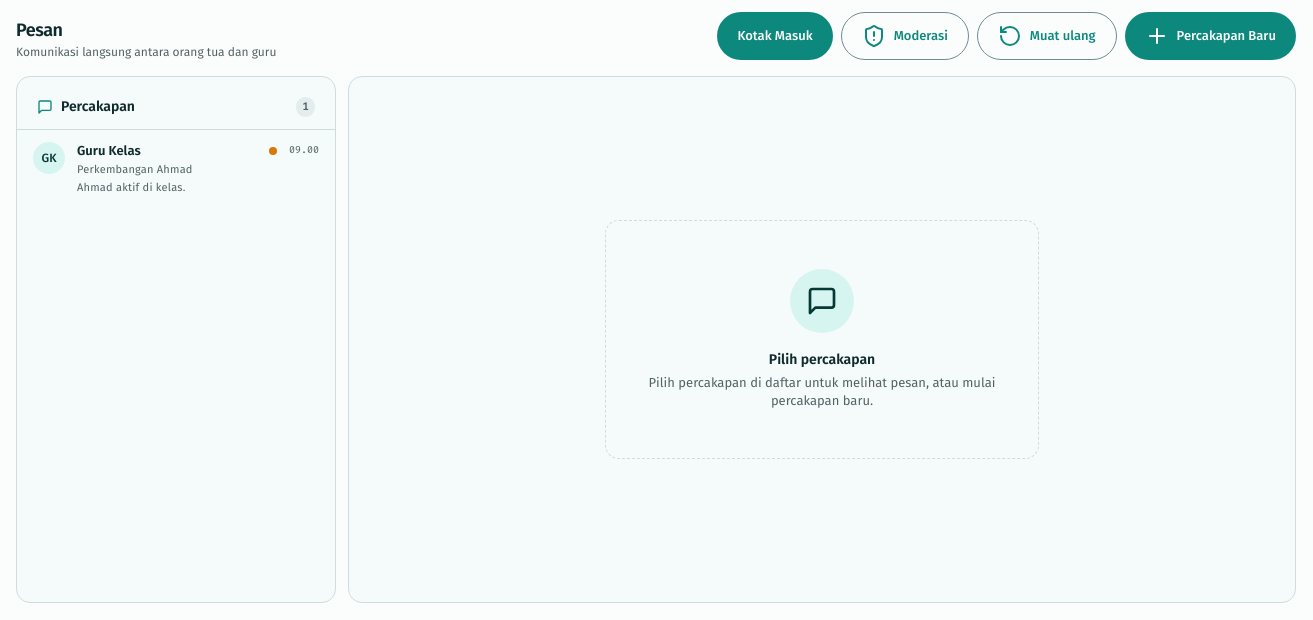
Test: MessagesPage › test_moderator_view_loads_via_audited_endpoint fetches /moderator-view for principals
The width and height of the screenshot is (1313, 620).
Click the button "Moderasi" at (905, 36), box [841,12,969,60]
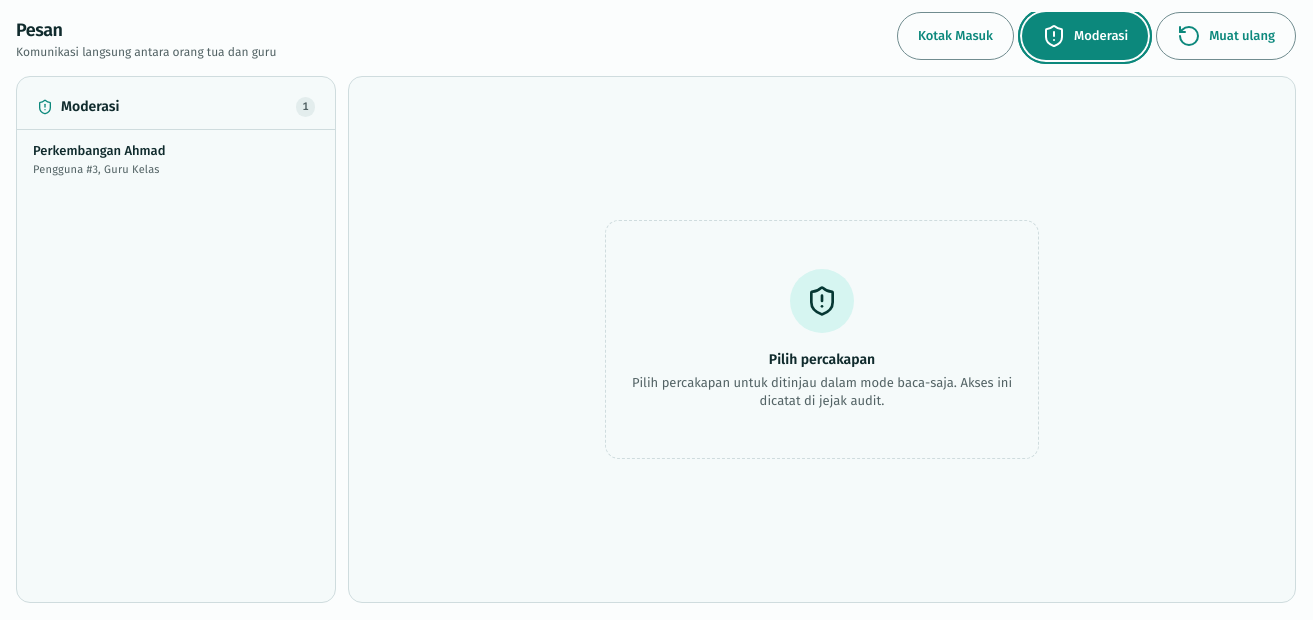
Click the button "Perkembangan Ahmad Pengguna #3, Guru Kelas" at (99, 150), box [17,130,335,190]
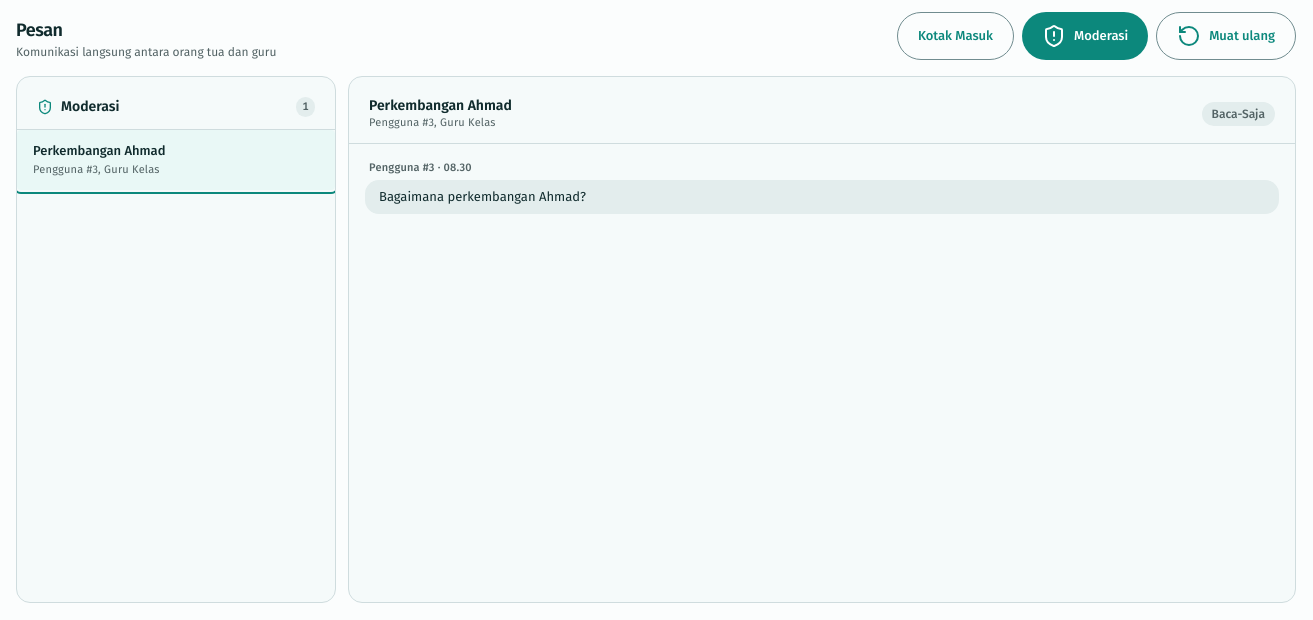
Now the text "Bagaimana perkembangan Ahmad?" is shown, box [379,188,586,204]
